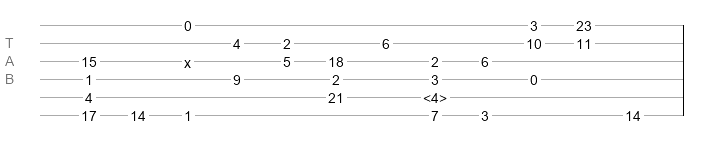0: (184, 18, 192, 28), (530, 72, 538, 82)
1: (85, 72, 93, 82), (184, 108, 192, 118)
10: (526, 36, 542, 46)
11: (576, 36, 592, 46)
14: (130, 108, 146, 118), (625, 108, 641, 118)
15: (81, 54, 97, 64)
17: (81, 108, 97, 118)
18: (328, 54, 344, 64)
2: (283, 36, 291, 46), (332, 72, 340, 82), (431, 54, 439, 64)
21: (328, 90, 344, 100)
23: (576, 18, 592, 28)
3: (431, 72, 439, 82), (481, 108, 489, 118), (530, 18, 538, 28)
4: (85, 90, 93, 100), (233, 36, 241, 46)
5: (283, 54, 291, 64)
6: (382, 36, 390, 46), (481, 54, 489, 64)
7: (431, 108, 439, 118)
9: (233, 72, 241, 82)
harmonic: (423, 90, 447, 100)
x: (184, 55, 191, 63)
